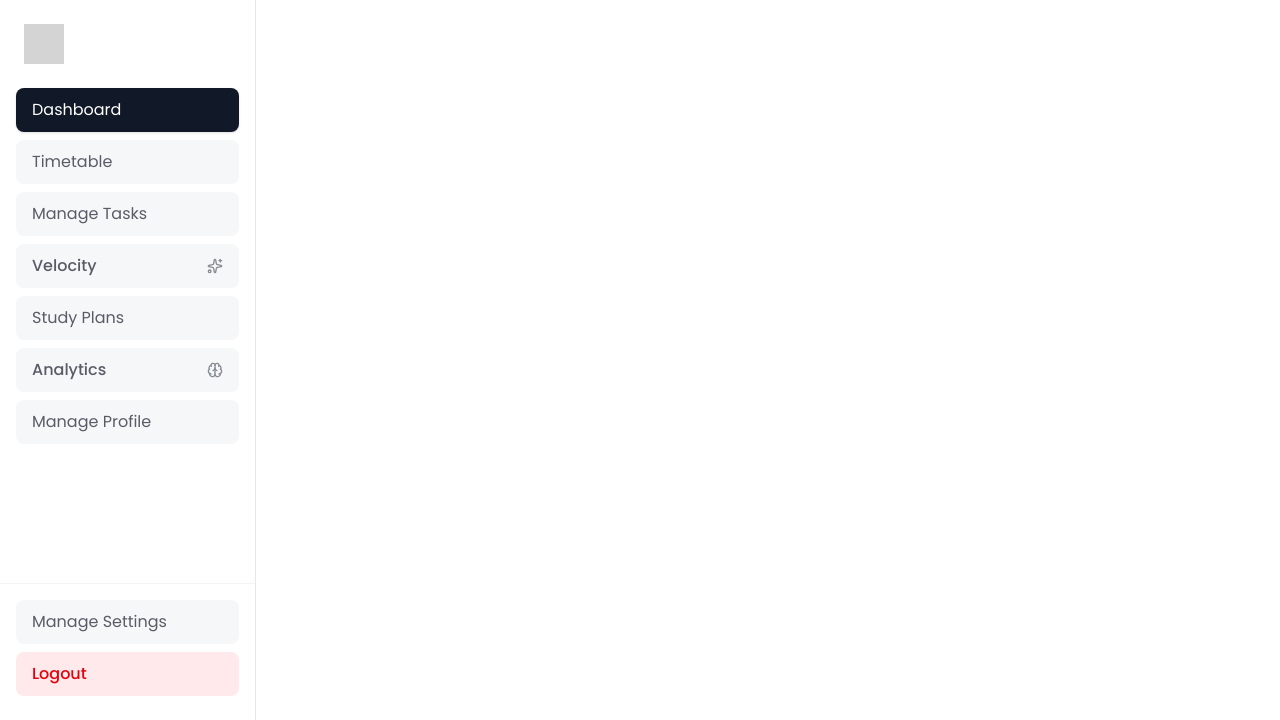
Test case: Sidebar Component › opens the confirmation modal when Logout is clicked
The width and height of the screenshot is (1280, 720).
Step 1. Click the button "Logout" → click(128, 674), box left=16, top=652, right=239, bottom=696
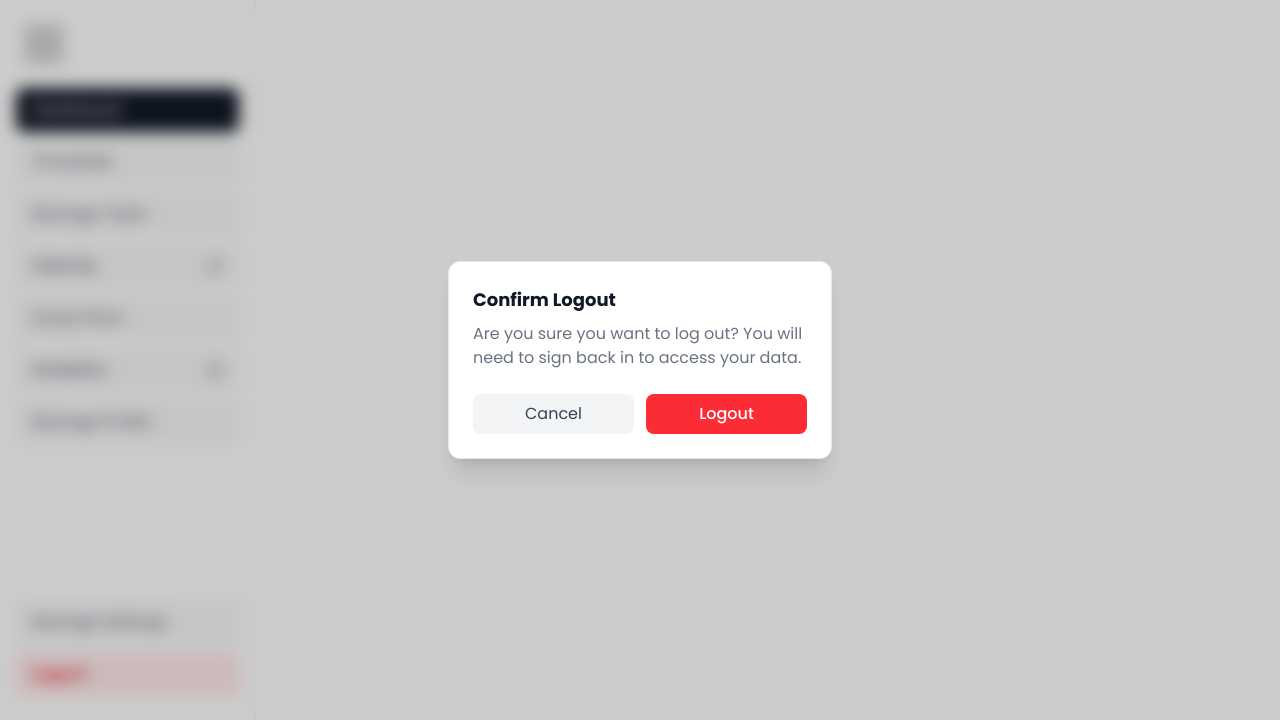
Expected: the heading "Confirm Logout" is shown, left=473, top=287, right=616, bottom=312
Expected: the text "Are you sure you want to log out? You will need to sign back in to access your data." is shown, left=473, top=322, right=802, bottom=369
